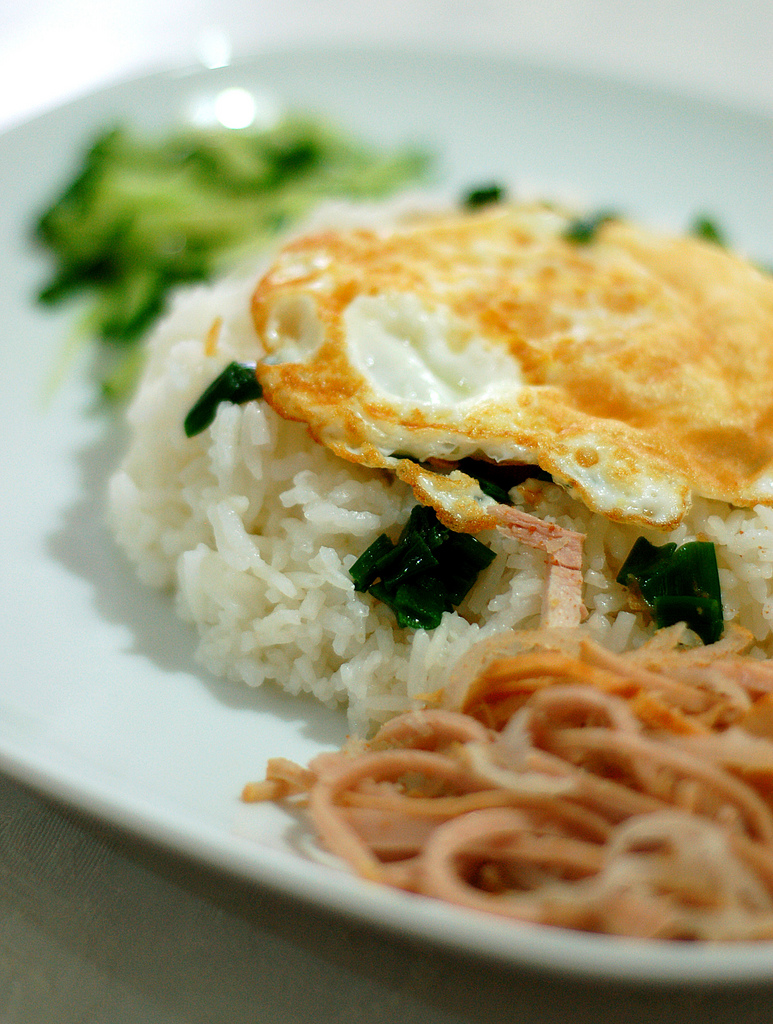fried egg: (255, 198, 768, 478)
plain rice: (143, 429, 416, 637)
